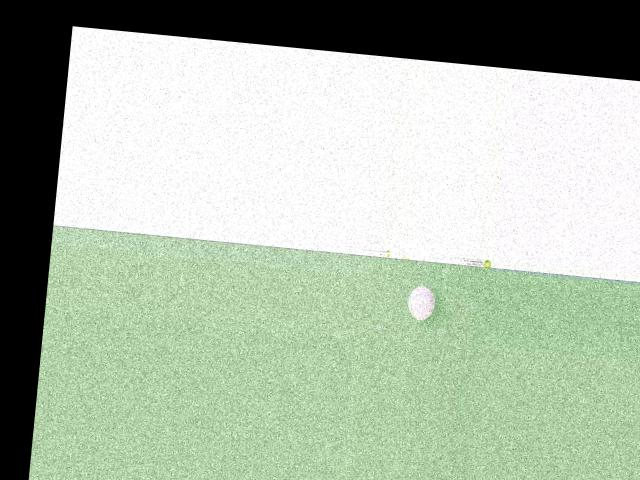egg: (406, 284, 436, 321)
